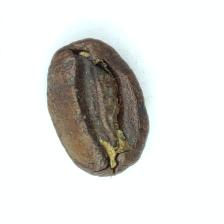NG: (65, 51, 136, 165)
